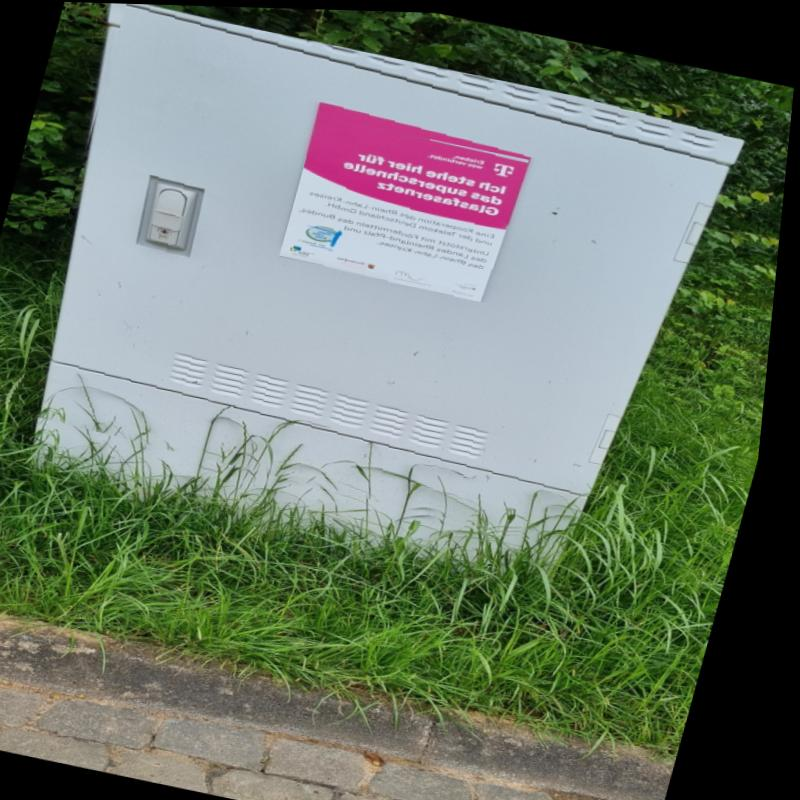NT-Gehause: (58, 3, 738, 528)
Steaker: (284, 114, 530, 293)
